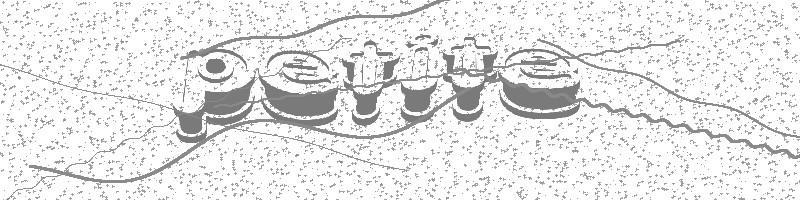e: (260, 51, 339, 128), (499, 49, 582, 119)
i: (401, 34, 439, 122)
p: (172, 50, 254, 143)
t: (342, 40, 398, 125), (443, 38, 498, 123)
